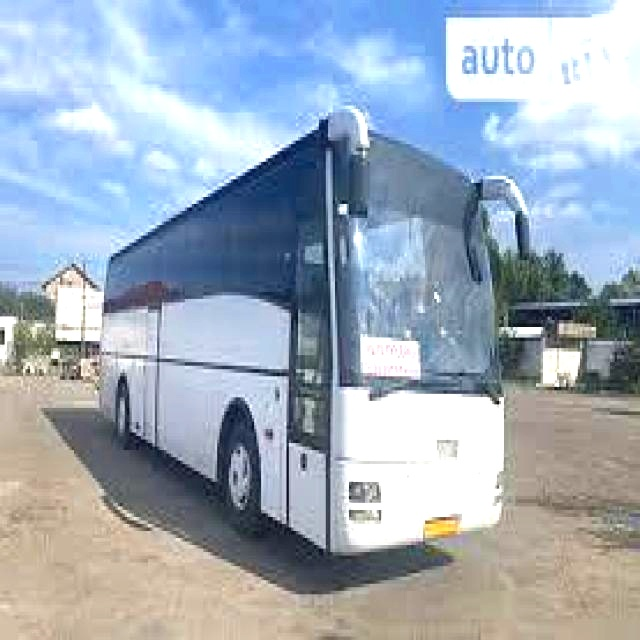bus: (66, 94, 570, 602)
